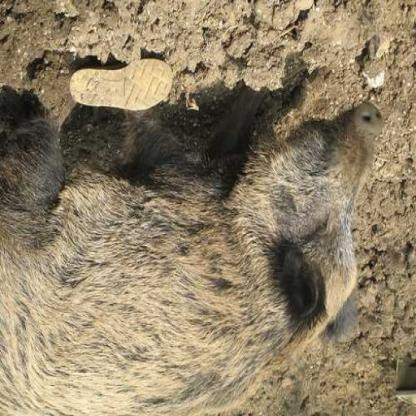boar: (0, 76, 390, 416)
